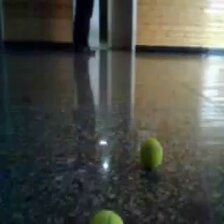tennis: (139, 138, 163, 170)
